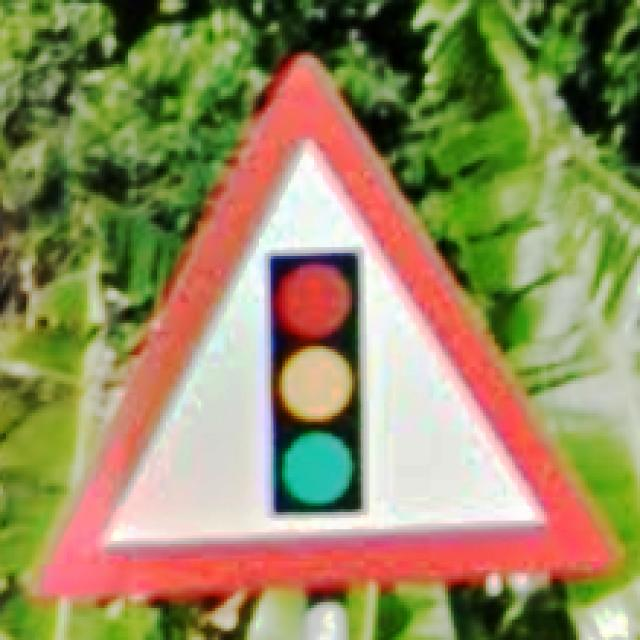signalahead: (31, 54, 620, 603)
